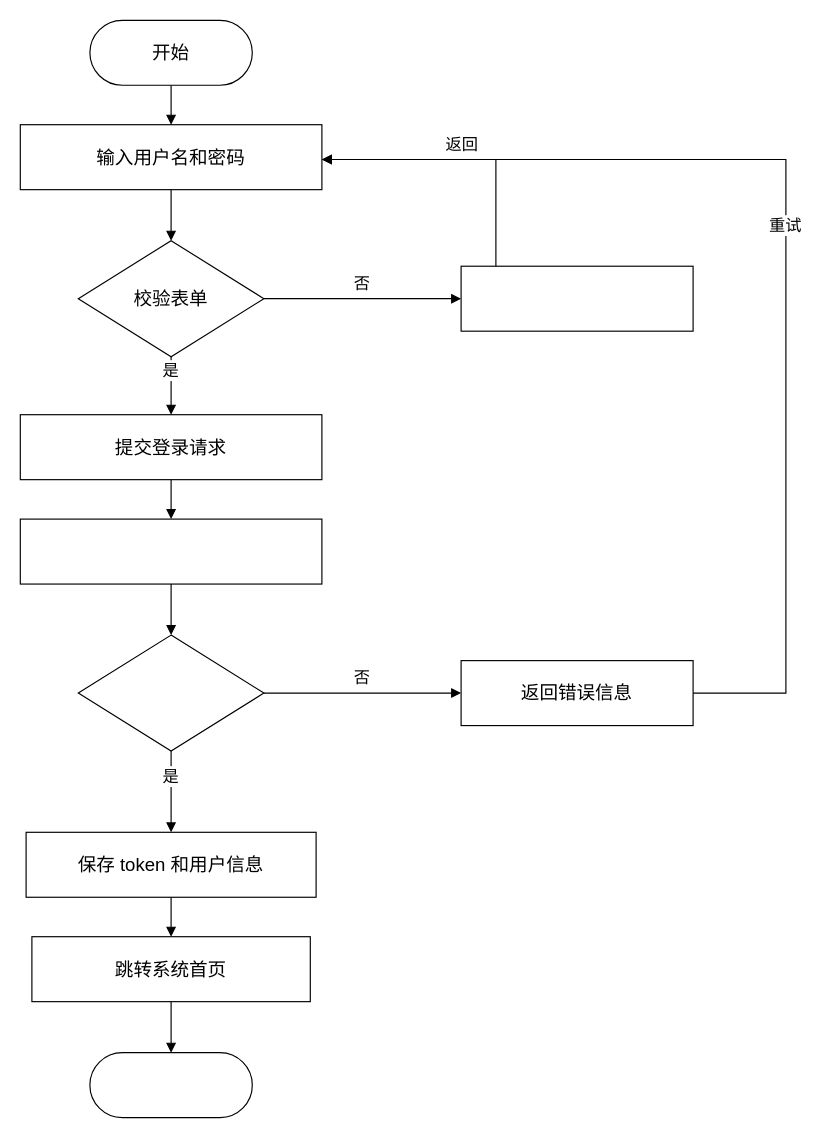
Some shapes in this 824 by 1138 pixel diagram are drawn without their labels. The shapes that lost their labels are listed below. From the top down, each one's box as (x1, y1, x2, y2) in pixels, then its label:
(460, 265, 693, 331): 提示补全信息
(19, 518, 322, 584): 校验账号并生成令牌
(77, 634, 264, 751): 账号有效
(89, 1052, 252, 1118): 结束
